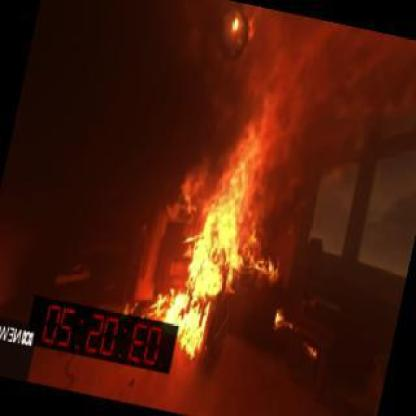Fire: (132, 98, 290, 341)
